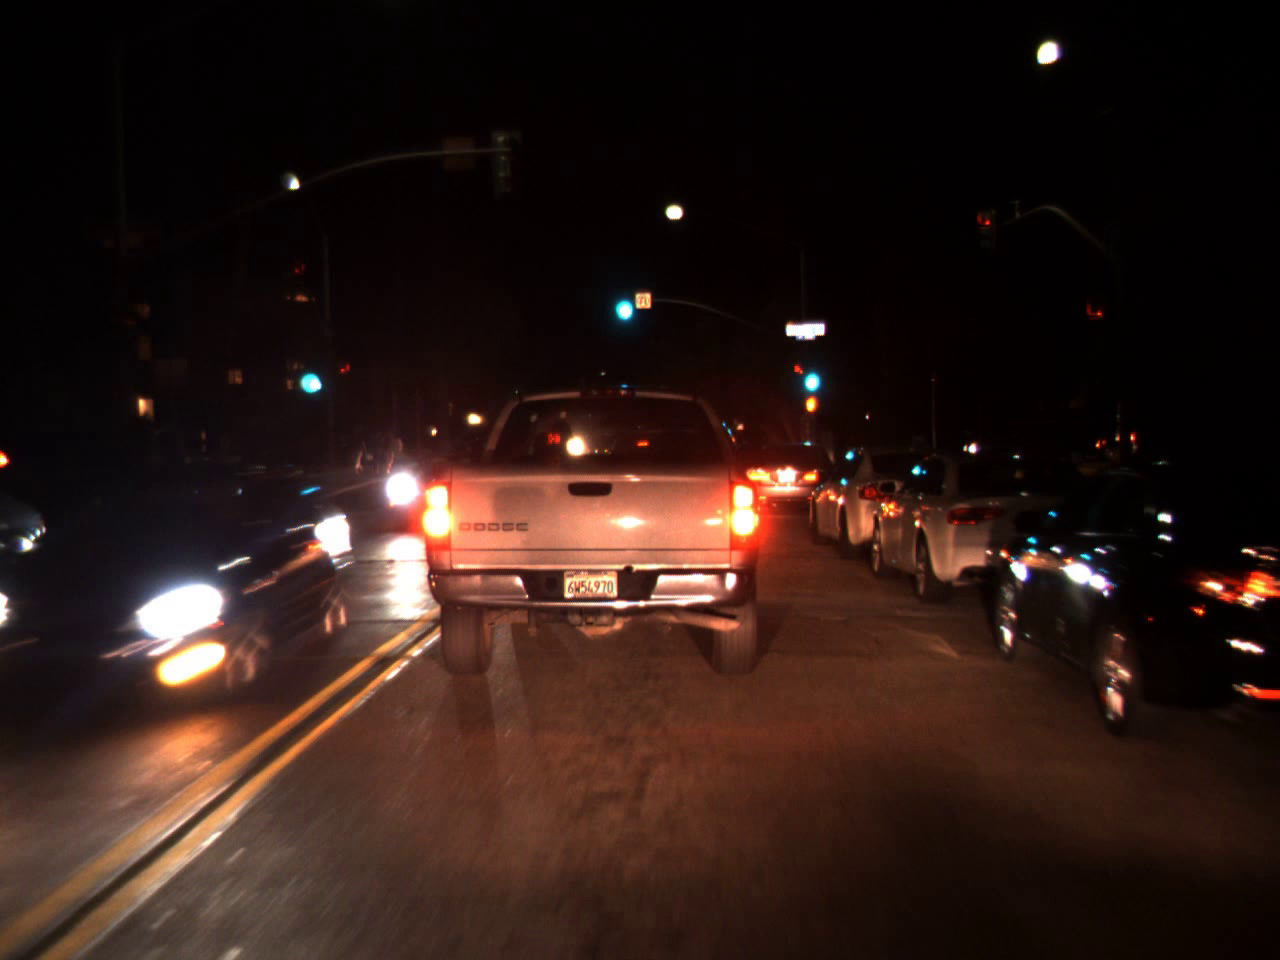go: (292, 349, 326, 400), (608, 276, 636, 327), (798, 348, 823, 399)
